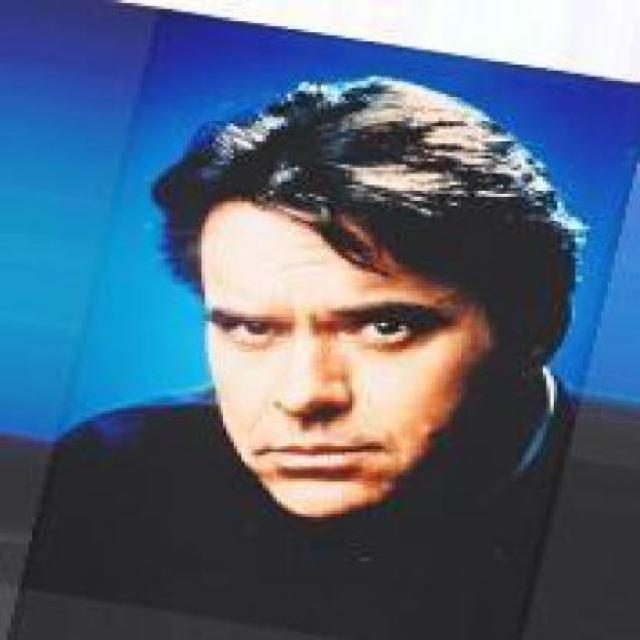closed-mouth: (257, 438, 383, 467)
